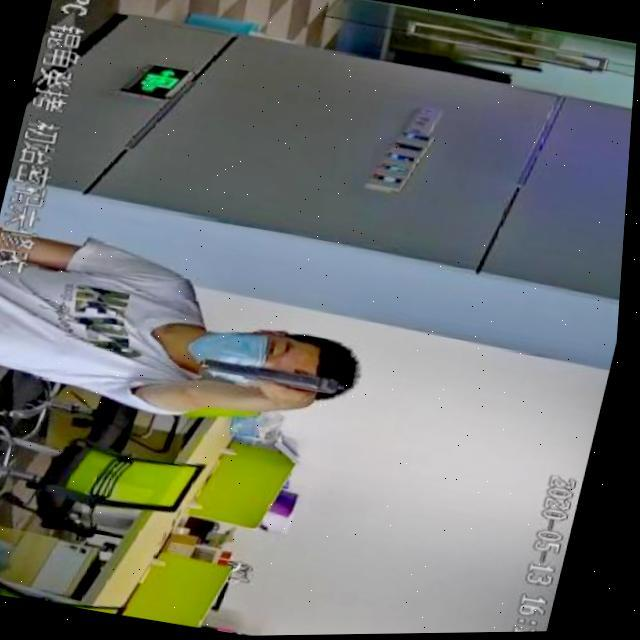gun: (176, 348, 360, 407)
